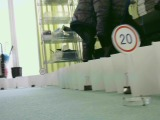speed_20: (110, 23, 141, 55)
